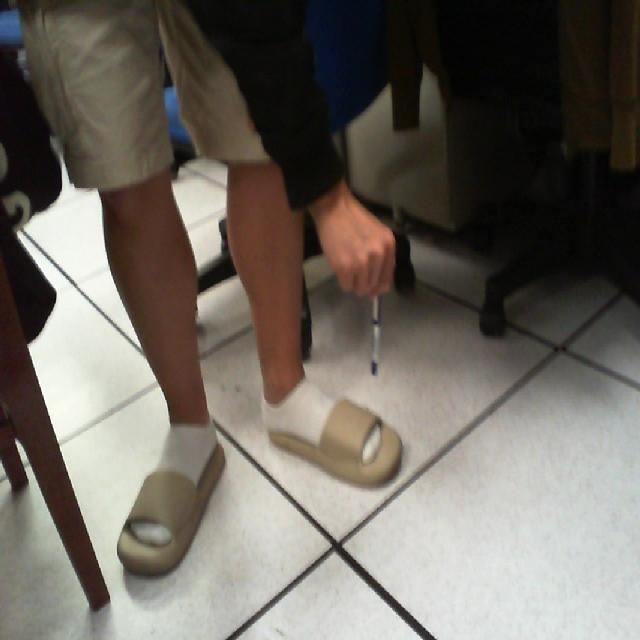Pen: (359, 254, 396, 393)
